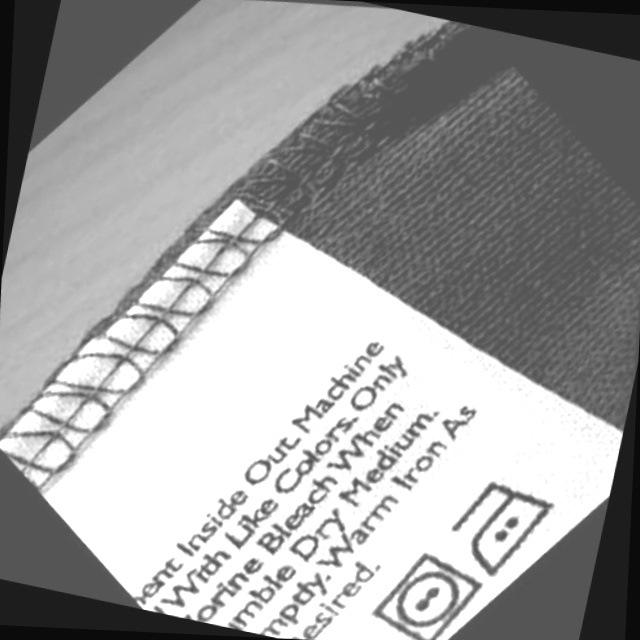iron_medium: (436, 461, 577, 594)
tumble_dry_medium: (358, 534, 502, 640)
